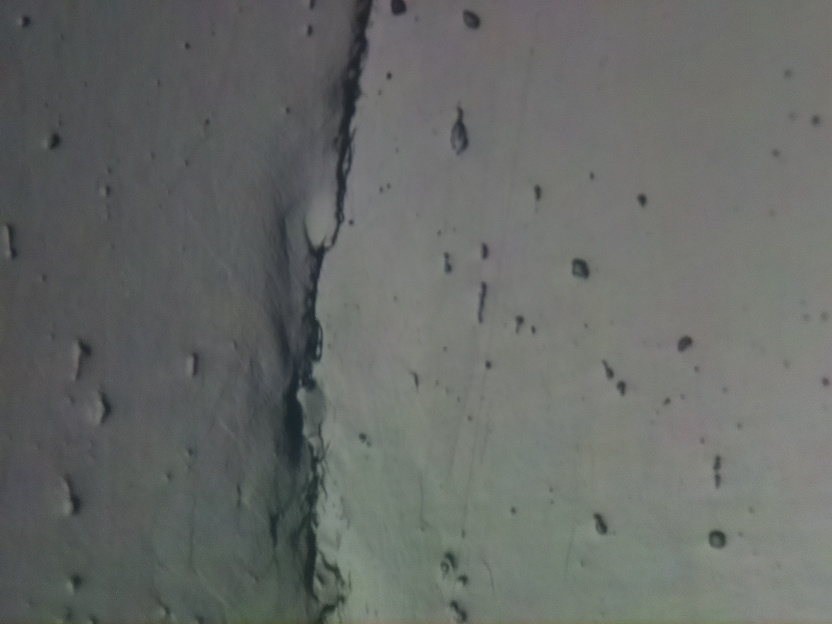crack: (289, 0, 373, 588)
